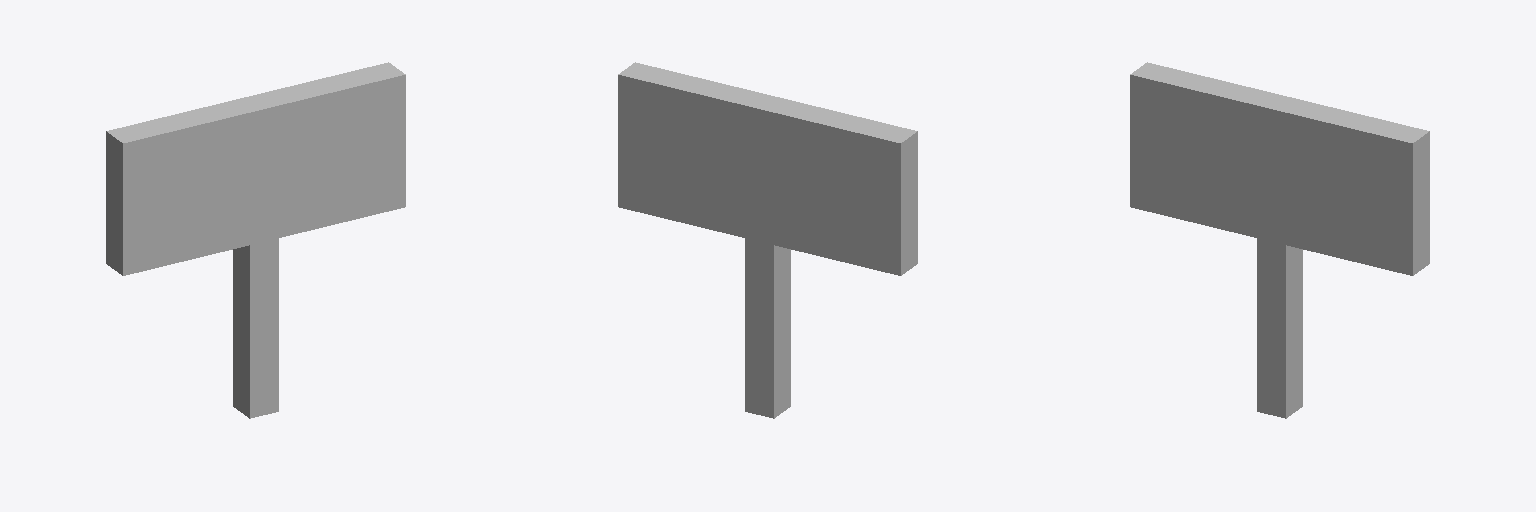
The model's file is sign.obj.
3 views of the same model, side by side, from view 1: azimuth 30°, elevation 25°; view 2: azimuth 150°, elevation 25°; view 3: azimuth 330°, elevation 25° (orthographic).
Bounding box in the file's own units: 29 × 30 × 3.